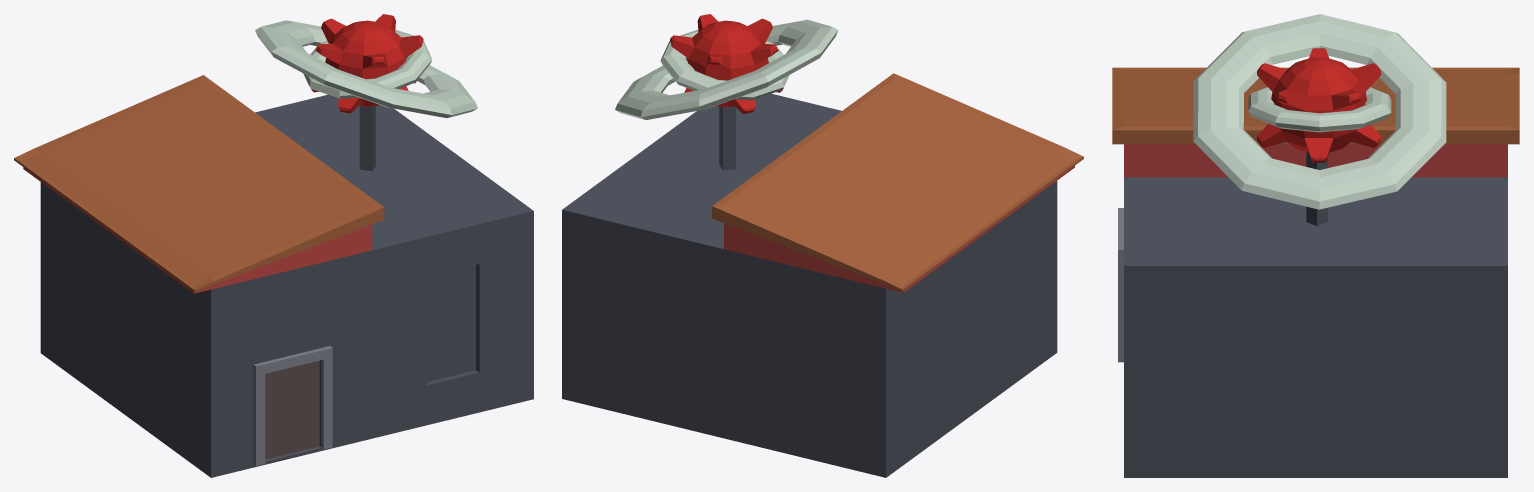
Rendered from RoofBuilding1.fbx.
The picture shows the model from 3 angles, left to right: view 1: azimuth 30°, elevation 25°; view 2: azimuth 150°, elevation 25°; view 3: azimuth 270°, elevation 25°; orthographic projection. The views are drawn at different scales.
Parts seen in each view (by area): view 1: RoofCabin1.001; view 2: RoofCabin1.001; view 3: RoofCabin1.001.
Boxes of the visible parts, bbox=[...] form: RoofCabin1.001: bbox=[14, 14, 533, 477]; RoofCabin1.001: bbox=[562, 14, 1083, 477]; RoofCabin1.001: bbox=[1112, 14, 1519, 477].
Size of the model in its own units: 950 by 838 by 830.
